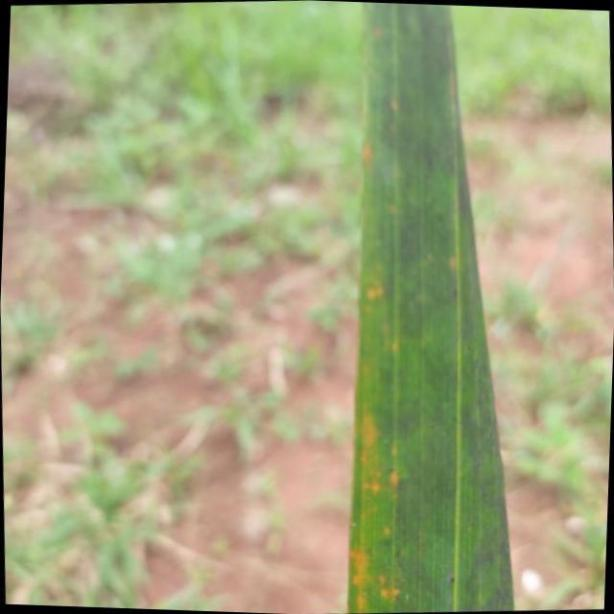Kalium: (347, 0, 513, 614)
